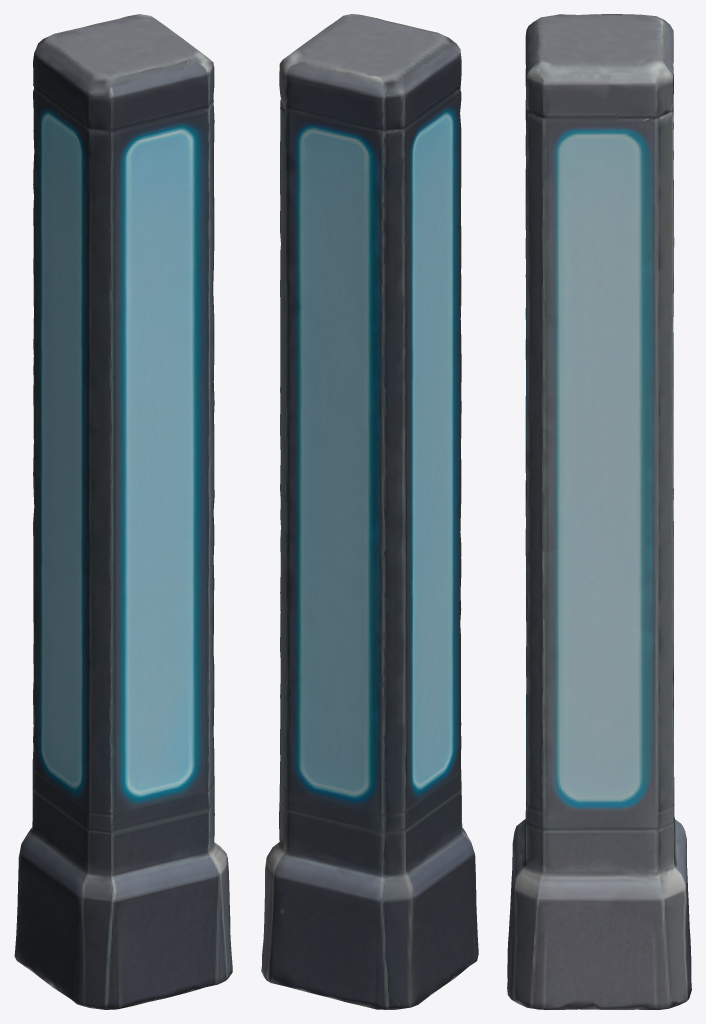
File: DDP_미디어폴.glb
3 renders of one model, left to right at view 1: azimuth 30°, elevation 25°; view 2: azimuth 150°, elevation 25°; view 3: azimuth 270°, elevation 25°, orthographic.
Parts seen in each view (by area): view 1: texture_mapping; view 2: texture_mapping; view 3: texture_mapping.
Boxes of the visible parts, x1=… form: texture_mapping: x1=14, y1=14, x2=232, y2=1009; texture_mapping: x1=261, y1=14, x2=478, y2=1009; texture_mapping: x1=507, y1=14, x2=691, y2=1009.
Size of the model in its own units: 0.1788 by 1 by 0.1799.
1 material, 1 textured.
